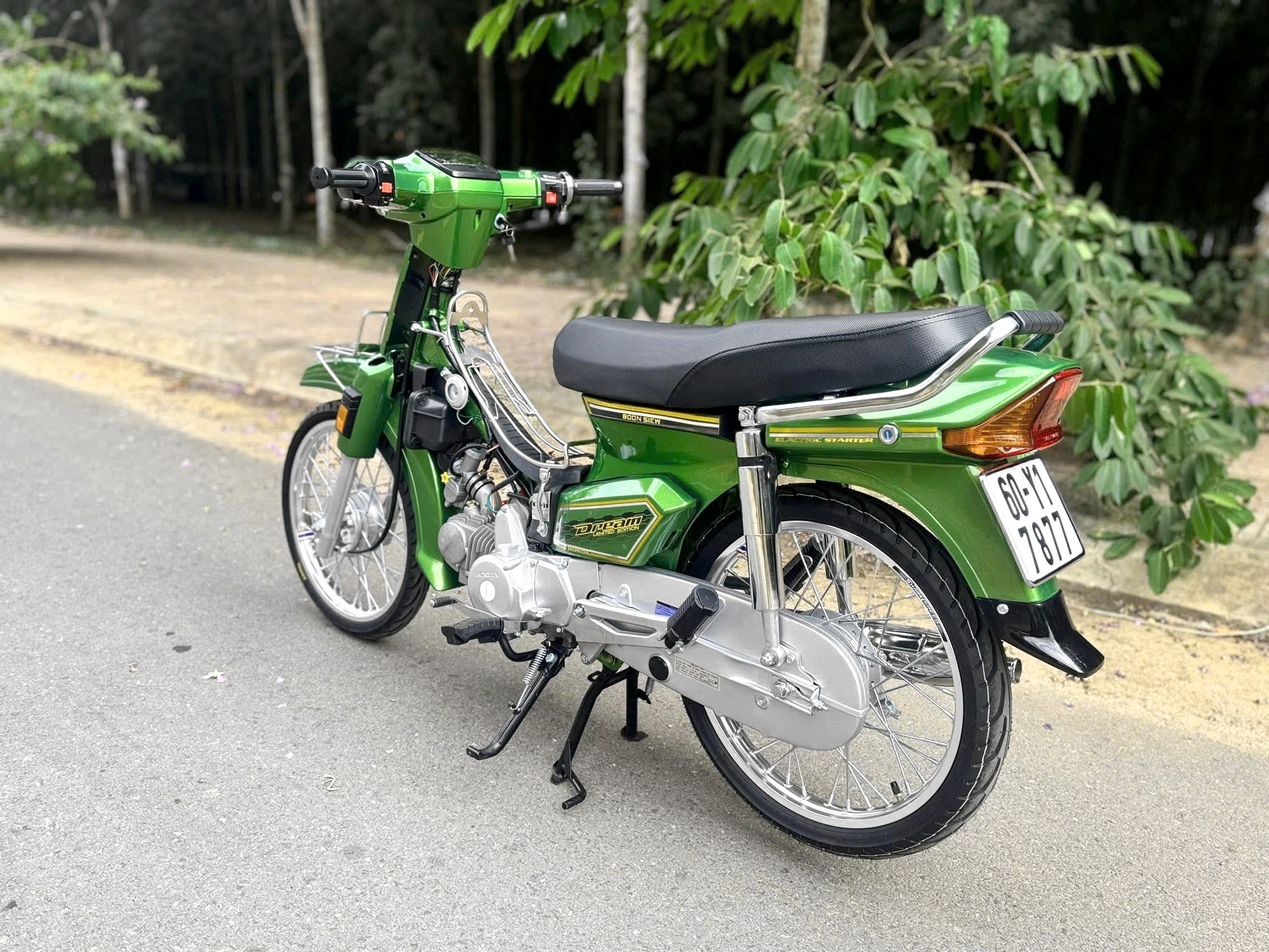Bien-so: (963, 438, 1080, 568)
